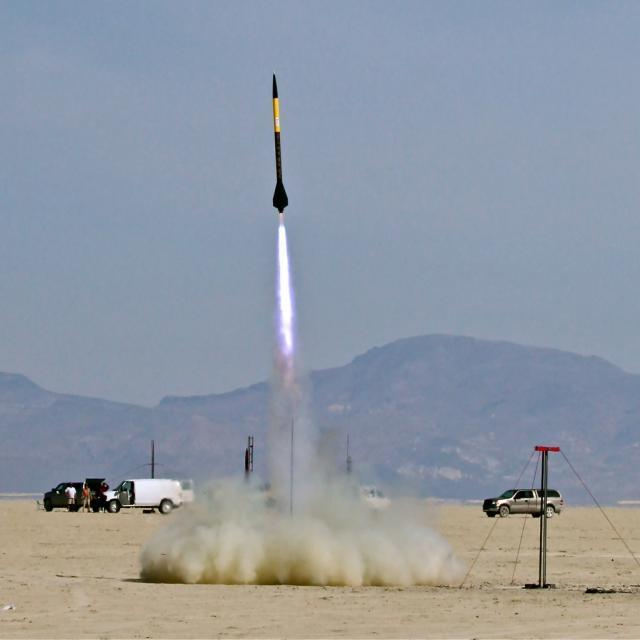missile: (269, 70, 289, 214)
